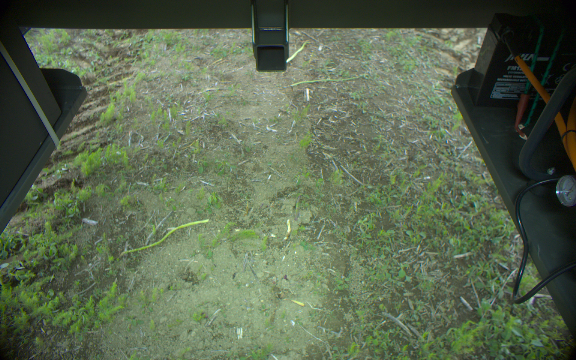aspa: (118, 219, 210, 265), (289, 73, 367, 88), (285, 38, 307, 65)
